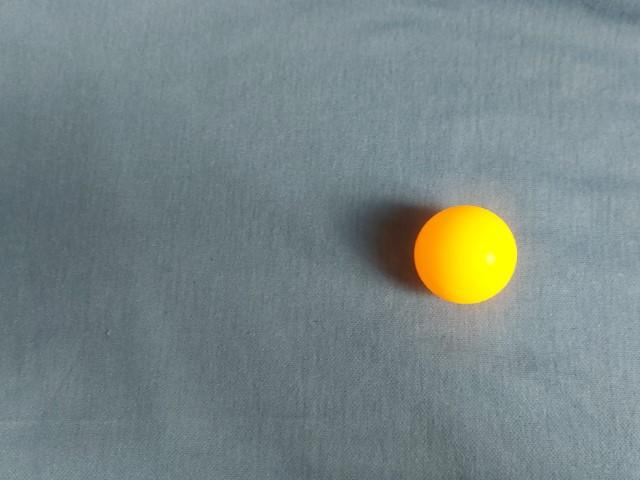oball: (116, 169, 232, 284)
